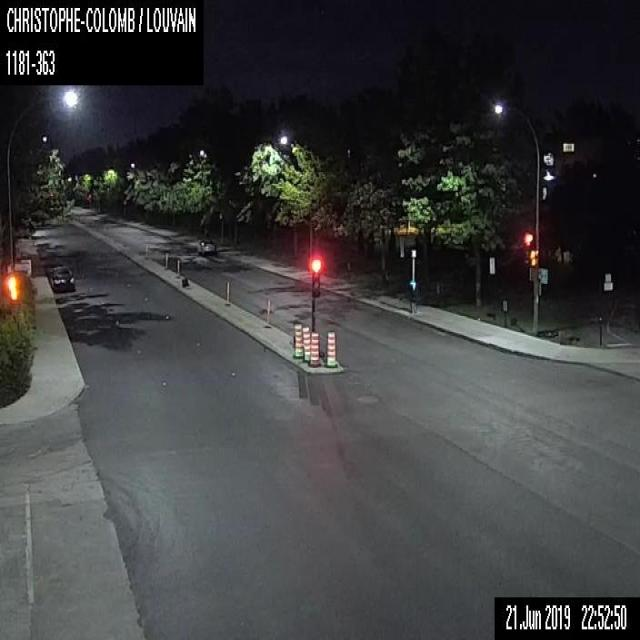construction: (323, 330, 337, 367), (308, 330, 320, 366), (292, 322, 304, 357), (302, 325, 310, 360)
vehicle: (49, 264, 74, 290), (195, 237, 218, 256)
